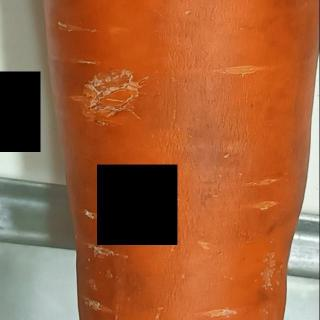carrot: (16, 0, 320, 320)
